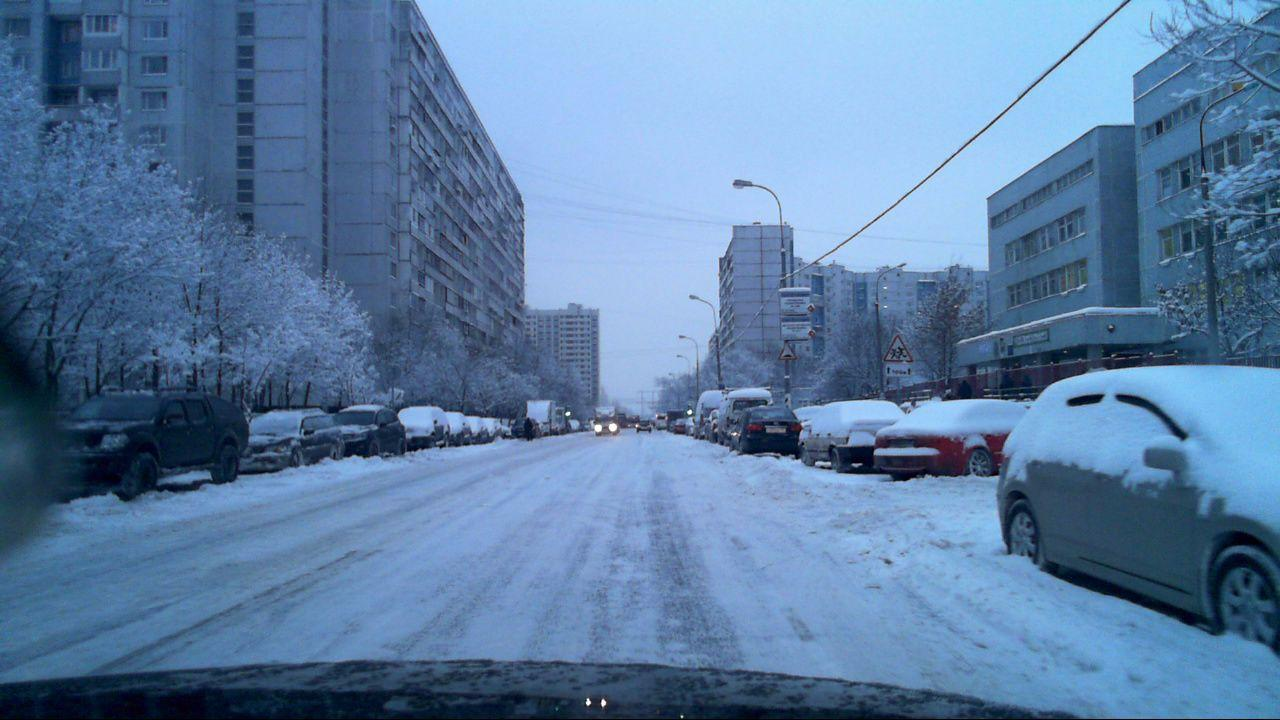road_sign: (881, 332, 914, 362), (777, 341, 802, 362)
